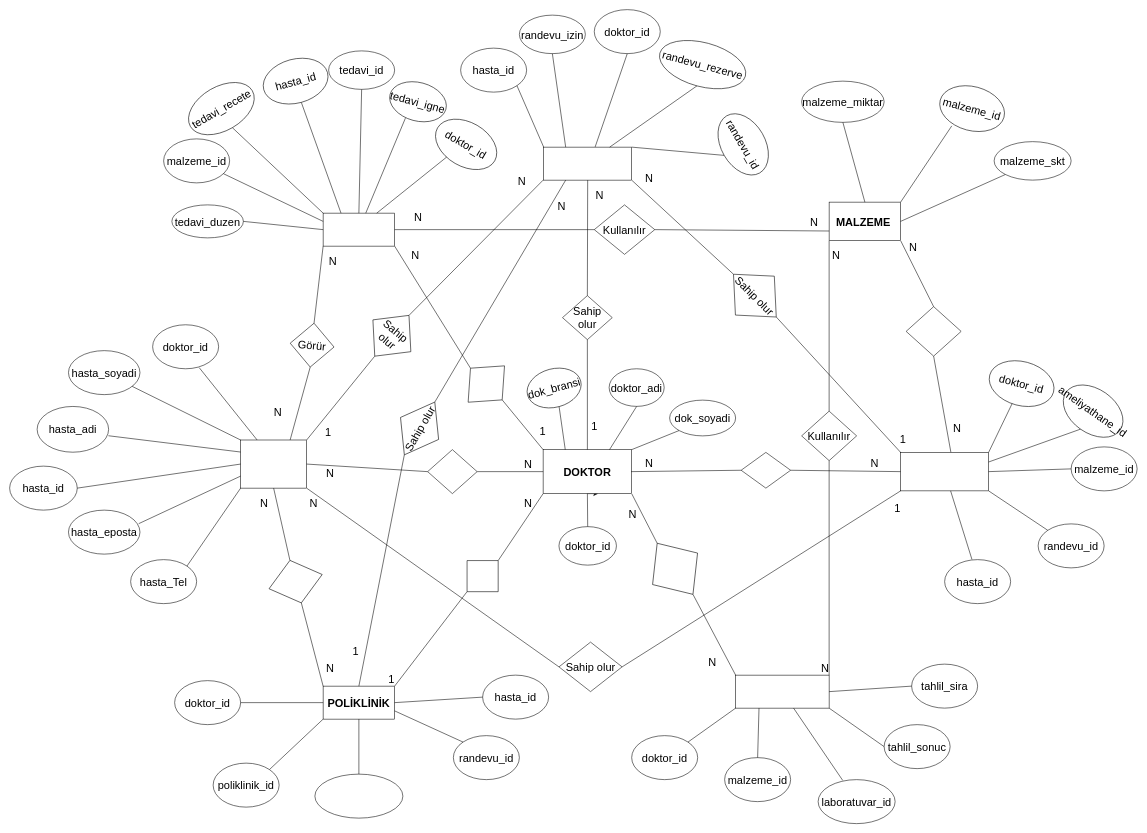
The diagram is 1147 pixels wide and 833 high, and some of its shapes have lost their labels. The shapes that lost their labels are listed below. From the top down, each one's centre as x and y in pixels, then its label:
the point at 587,163: RANDEVU
the point at 359,229: TEDAVİ
the point at 933,331: Gerektirir
the point at 486,383: Verir
the point at 273,463: HASTA
the point at 452,471: İyileştirir
the point at 766,470: Kullanır
the point at 944,471: AMELİYATHANE
the point at 295,581: Görünür
the point at 482,575: Çalışır
the point at 675,568: Tahlil ister
the point at 782,691: LABORATUVAR
the point at 358,796: poliklinik_brans
